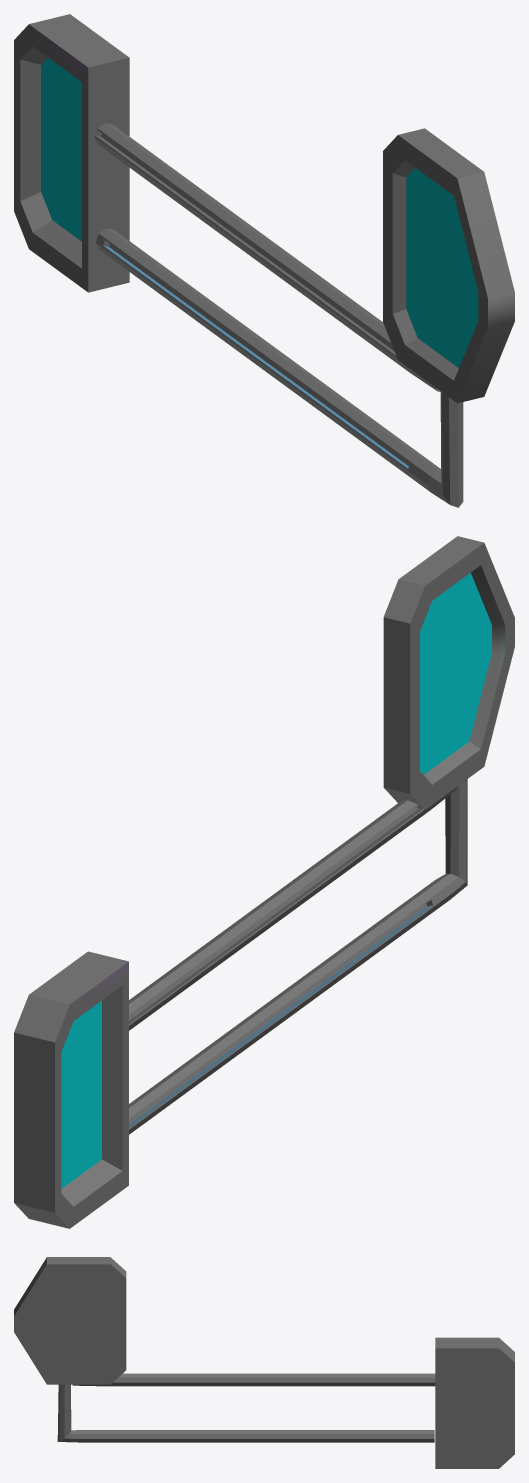
3 renders of one model, top to bottom at view 1: azimuth 30°, elevation 25°; view 2: azimuth 150°, elevation 25°; view 3: azimuth 270°, elevation 25°, orthographic. The views are drawn at different scales.
Parts seen in each view (by area): view 1: SM_B_Part6; view 2: SM_B_Part6; view 3: SM_B_Part6.
Boxes of the visible parts, box(x1,y1,x2,y2) form: SM_B_Part6: box(14, 14, 514, 507); SM_B_Part6: box(14, 536, 514, 1228); SM_B_Part6: box(14, 1257, 514, 1468).
Bounding box in the file's own units: 10.56 × 208 × 92.74.
Materials: 1 (1 with a texture image).
